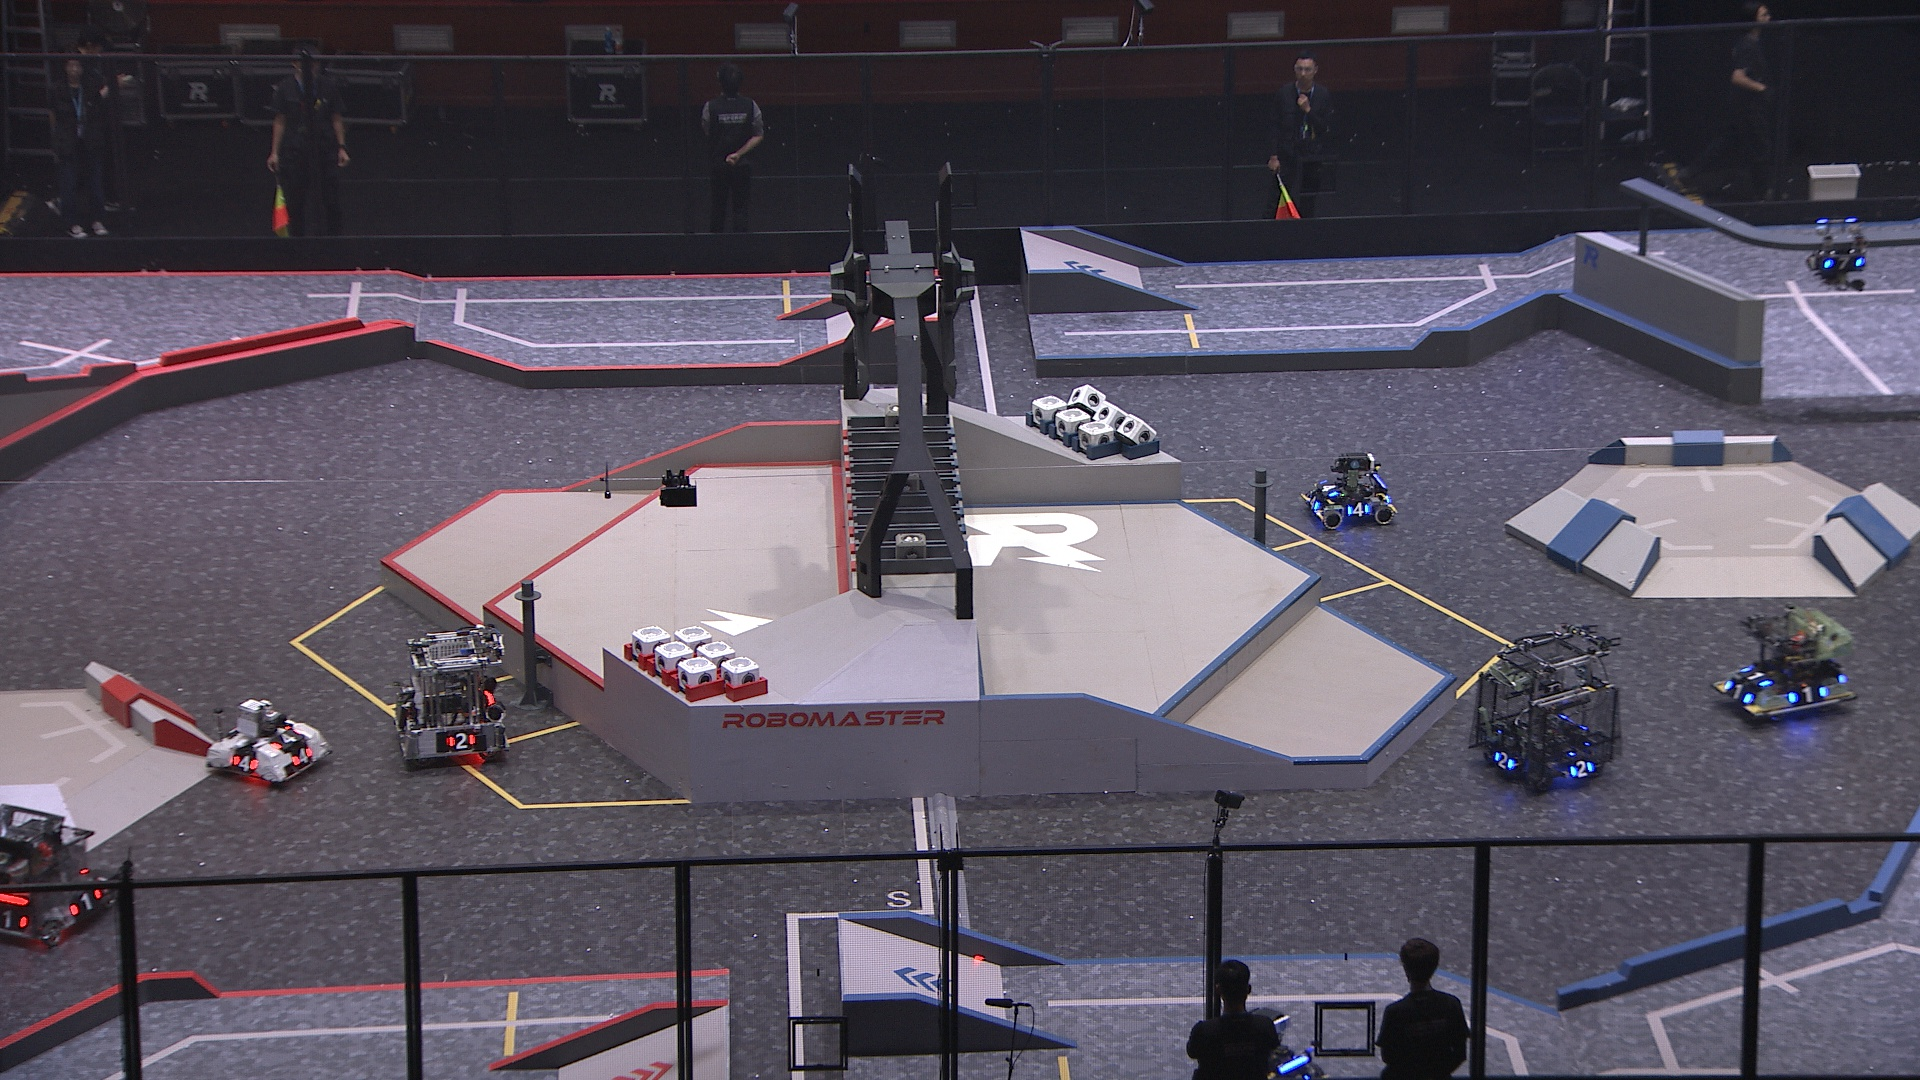armor: (69, 889, 102, 918), (1787, 684, 1826, 707), (1738, 665, 1774, 688), (269, 727, 305, 749), (1724, 679, 1755, 704), (444, 731, 480, 752), (1821, 256, 1865, 272), (1, 910, 32, 932), (1569, 760, 1596, 782), (1346, 498, 1371, 520), (291, 745, 314, 767), (1493, 749, 1516, 770), (231, 754, 258, 771), (1317, 479, 1338, 501), (1305, 495, 1323, 512)
car: (1468, 632, 1627, 794), (1709, 604, 1865, 725), (396, 626, 513, 765), (204, 698, 334, 789), (1218, 1007, 1332, 1080), (1302, 450, 1396, 531)
watcher: (1807, 218, 1869, 294)
